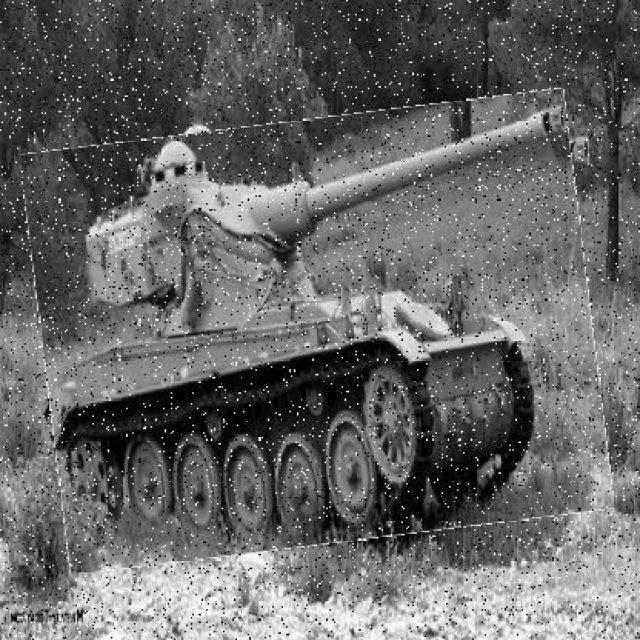Tank: (32, 106, 604, 560)
